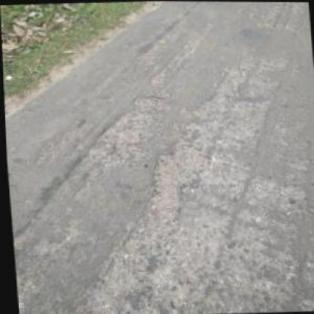Hueco: (86, 92, 170, 159), (143, 139, 210, 213)
